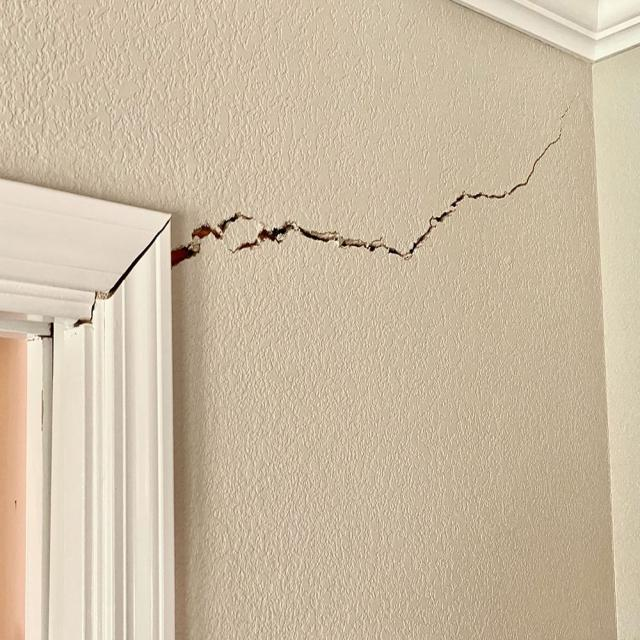Crack: (171, 93, 575, 270), (68, 212, 168, 325)
